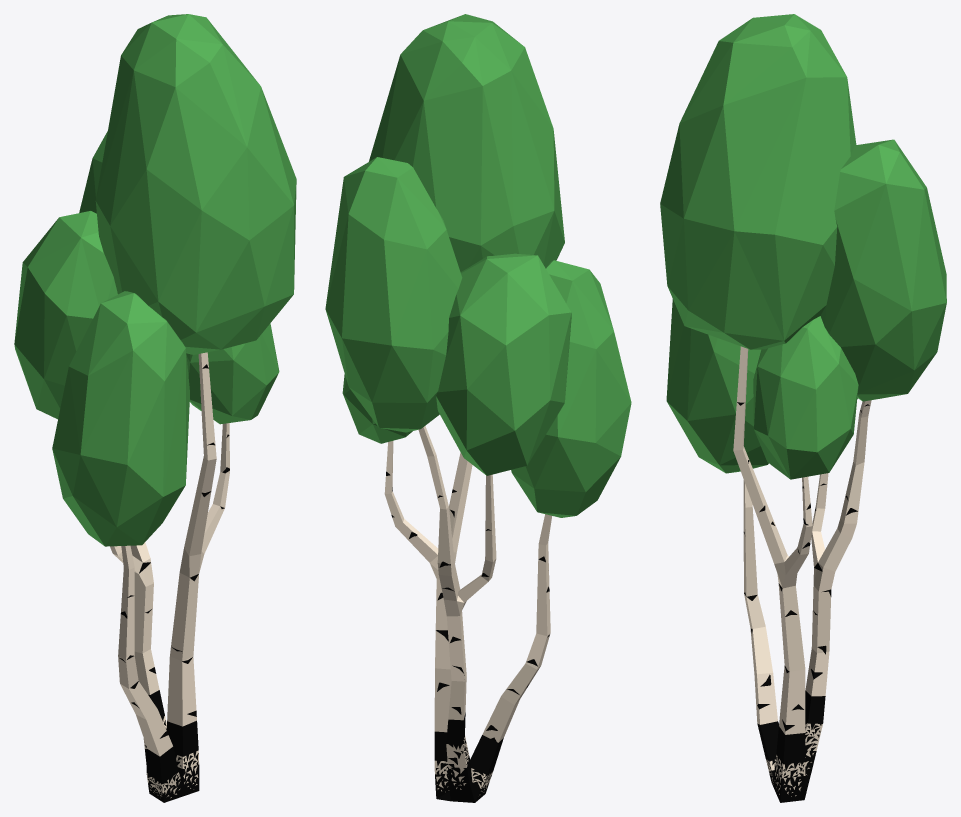
The model's file is Flat_Tree_Birch_hero_green.glb.
3 renders of one model, left to right at view 1: azimuth 30°, elevation 25°; view 2: azimuth 150°, elevation 25°; view 3: azimuth 270°, elevation 25°, orthographic.
Parts seen in each view (by area): view 1: Birch hero green f; view 2: Birch hero green f; view 3: Birch hero green f.
Boxes of the visible parts, x1,y1,x2,y2 form: Birch hero green f: (14, 14, 296, 802); Birch hero green f: (325, 14, 631, 802); Birch hero green f: (660, 14, 946, 802).
Bounding box in the file's own units: 6.8 × 21.21 × 7.12.
